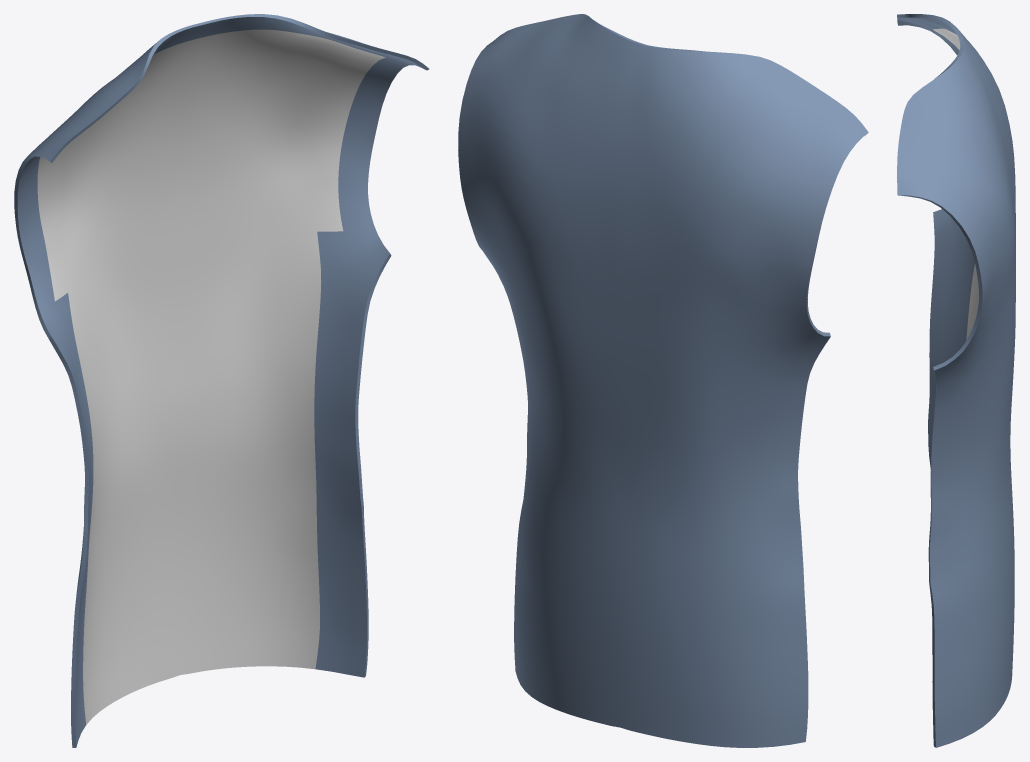
Rendered from SM_CarlosSA_Jacket_BackVent_DoubleVent.fbx.
3 renders of one model, left to right at view 1: azimuth 30°, elevation 25°; view 2: azimuth 150°, elevation 25°; view 3: azimuth 270°, elevation 25°, orthographic. The views are drawn at different scales.
Visible parts, largest first — view 1: SM_CarlosSA_Jacket_BackVent_DoubleVent; view 2: SM_CarlosSA_Jacket_BackVent_DoubleVent; view 3: SM_CarlosSA_Jacket_BackVent_DoubleVent.
Part boxes in pixels (box(x1,y1,x2,y2)): SM_CarlosSA_Jacket_BackVent_DoubleVent: box(14, 14, 429, 747); SM_CarlosSA_Jacket_BackVent_DoubleVent: box(458, 14, 868, 747); SM_CarlosSA_Jacket_BackVent_DoubleVent: box(897, 14, 1015, 747).
Size of the model in its own units: 0.4349 by 0.7441 by 0.1258.
